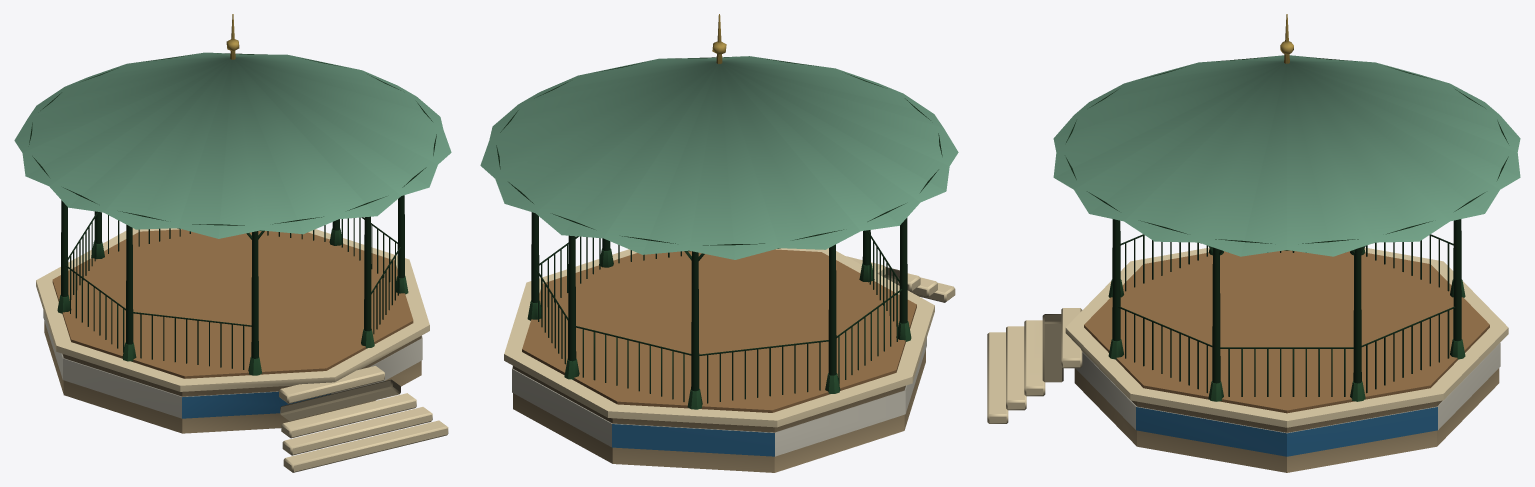
The model's file is bandstand.glb.
3 views of the same model, side by side, from view 1: azimuth 30°, elevation 25°; view 2: azimuth 150°, elevation 25°; view 3: azimuth 270°, elevation 25° (orthographic). The views are drawn at different scales.
Parts seen in each view (by area): view 1: bandstand_mesh; view 2: bandstand_mesh; view 3: bandstand_mesh.
Part boxes in pixels (x1,y1,x2,y2): bandstand_mesh: (14,14,451,472); bandstand_mesh: (480,14,958,472); bandstand_mesh: (987,14,1520,472).
Bounding box in the file's own units: 7.59 × 6.62 × 8.67.
